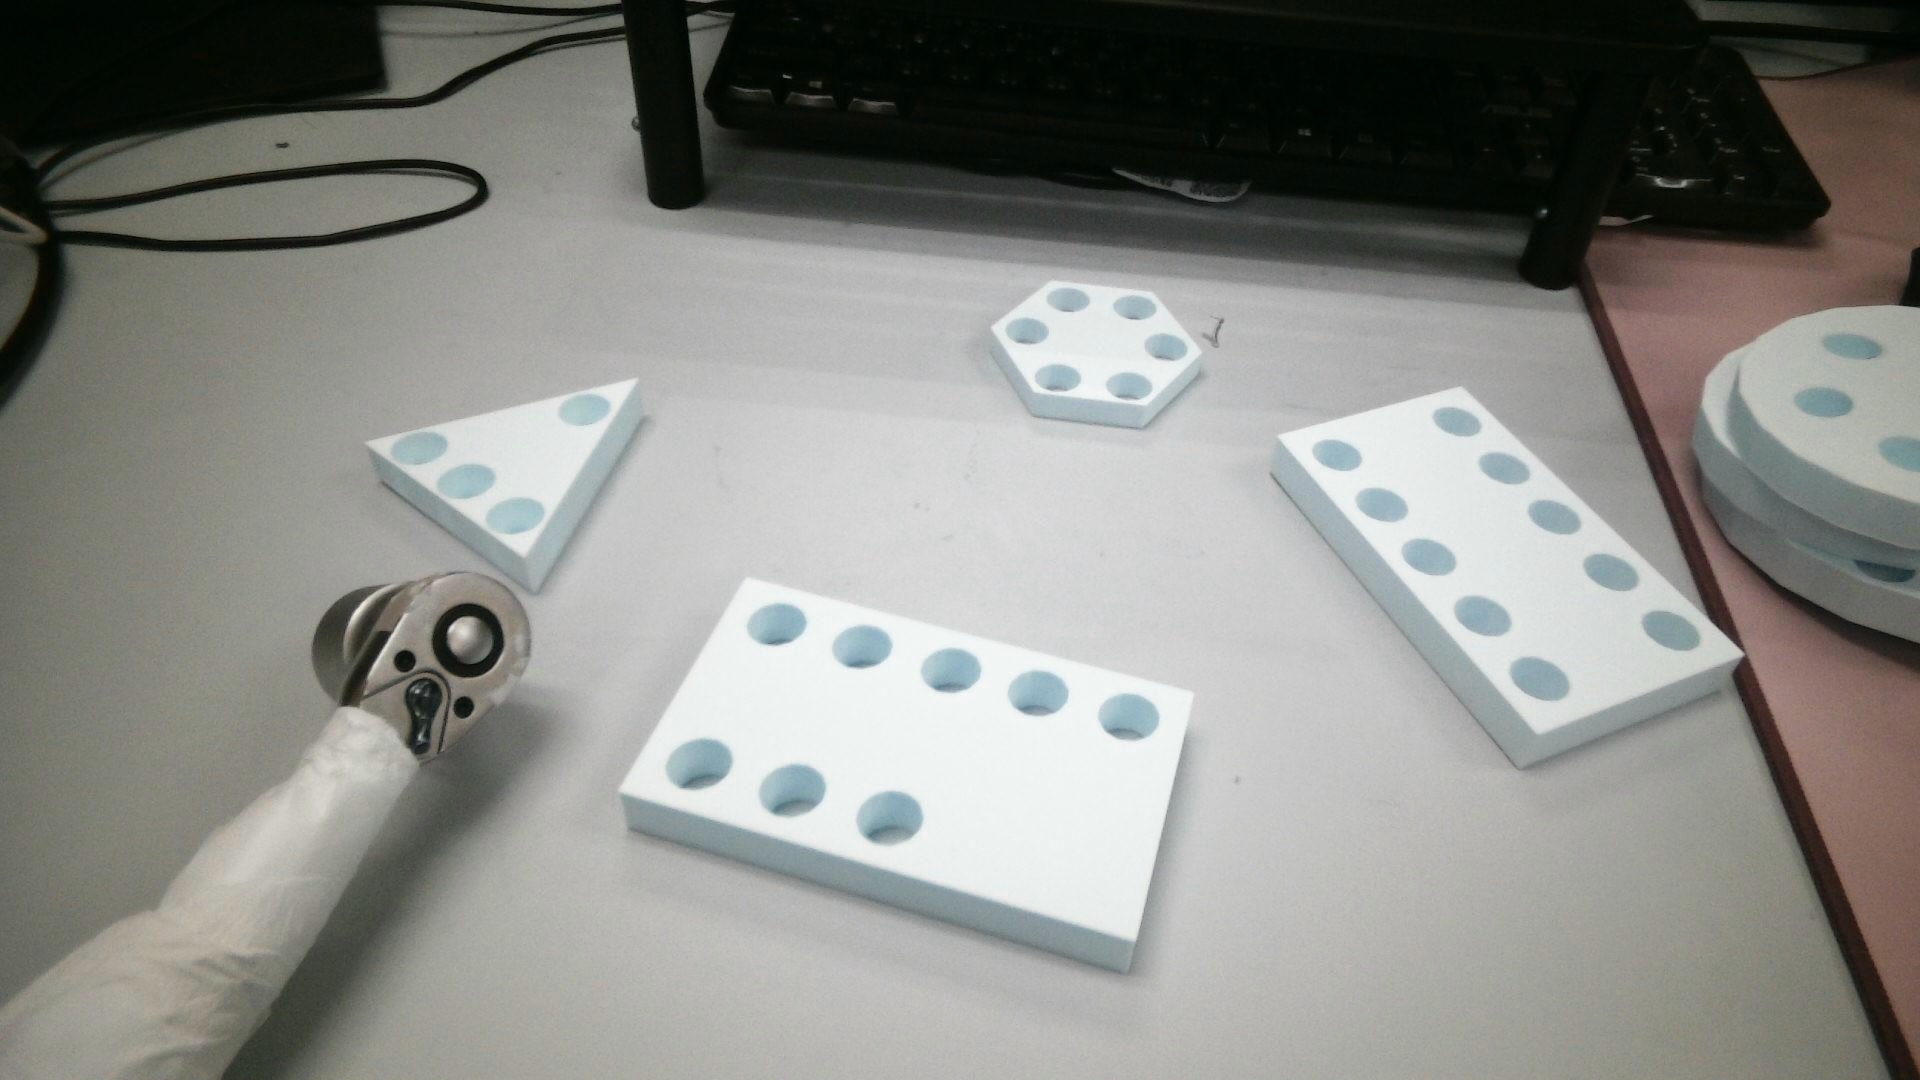hole: (659, 733, 735, 796), (757, 756, 828, 822), (858, 789, 926, 847), (1580, 550, 1647, 600), (1007, 663, 1071, 715), (1644, 603, 1705, 655), (1095, 692, 1162, 738), (833, 618, 891, 671), (742, 599, 804, 647), (920, 644, 980, 694), (481, 489, 549, 533), (1821, 326, 1888, 368), (1453, 593, 1514, 638), (1514, 659, 1569, 705), (433, 458, 491, 498), (1406, 531, 1456, 578), (1797, 381, 1853, 421), (1524, 496, 1582, 533), (1480, 447, 1527, 483), (560, 392, 608, 426), (1147, 330, 1191, 367), (1880, 433, 1920, 472), (1313, 434, 1356, 471), (1432, 402, 1478, 435), (1354, 487, 1404, 517), (392, 430, 439, 462), (1104, 371, 1150, 402), (1108, 291, 1155, 320), (1033, 363, 1077, 393), (1047, 284, 1091, 313), (1005, 315, 1047, 344)
obj: (608, 570, 1174, 1001), (1267, 377, 1755, 833), (1688, 291, 1920, 659), (356, 349, 661, 601), (978, 272, 1216, 442)
wrench: (423, 597, 510, 684)
